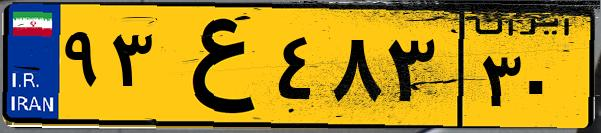0: (525, 38, 570, 115)
3: (385, 28, 445, 110), (475, 38, 525, 113), (110, 28, 158, 98)
4: (270, 28, 330, 110)
8: (330, 28, 385, 110)
9: (57, 26, 110, 100)
ع: (158, 12, 270, 120)
